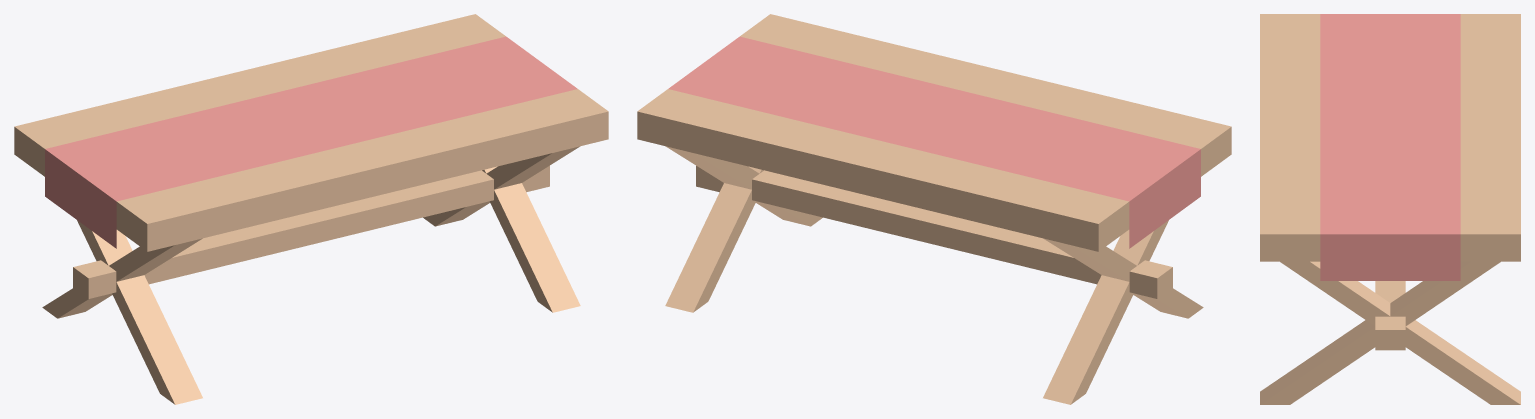
File: tableCrossCloth-col.glb
3 views of the same model, side by side, from view 1: azimuth 30°, elevation 25°; view 2: azimuth 150°, elevation 25°; view 3: azimuth 270°, elevation 25° (orthographic). The views are drawn at different scales.
Parts seen in each view (by area): view 1: tableCrossCloth-col; view 2: tableCrossCloth-col; view 3: tableCrossCloth-col.
Boxes of the visible parts, x1,y1,x2,y2 form: tableCrossCloth-col: [14, 14, 608, 404]; tableCrossCloth-col: [637, 14, 1231, 404]; tableCrossCloth-col: [1260, 14, 1520, 404].
Size of the model in its own units: 0.9 by 0.35 by 0.45.
